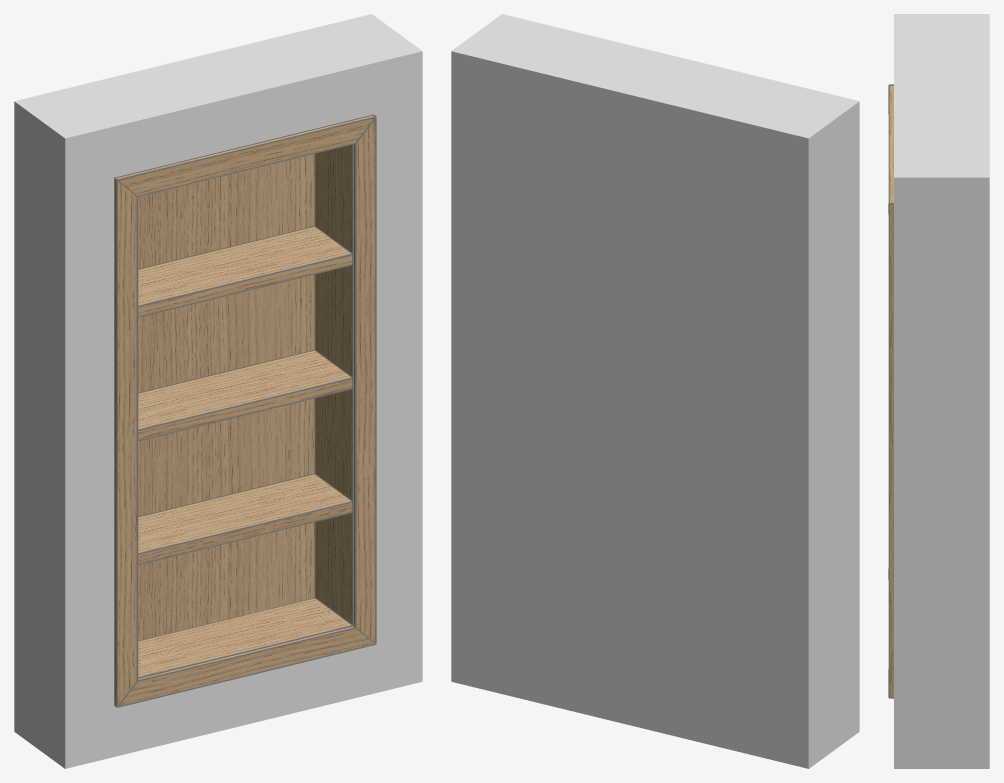
File: modell.glb
The picture shows the model from 3 angles, left to right: view 1: azimuth 30°, elevation 25°; view 2: azimuth 150°, elevation 25°; view 3: azimuth 270°, elevation 25°; orthographic projection. The views are drawn at different scales.
Bounding box in the file's own units: 730 × 1230 × 191.
Materials: 4 (2 with a texture image).
